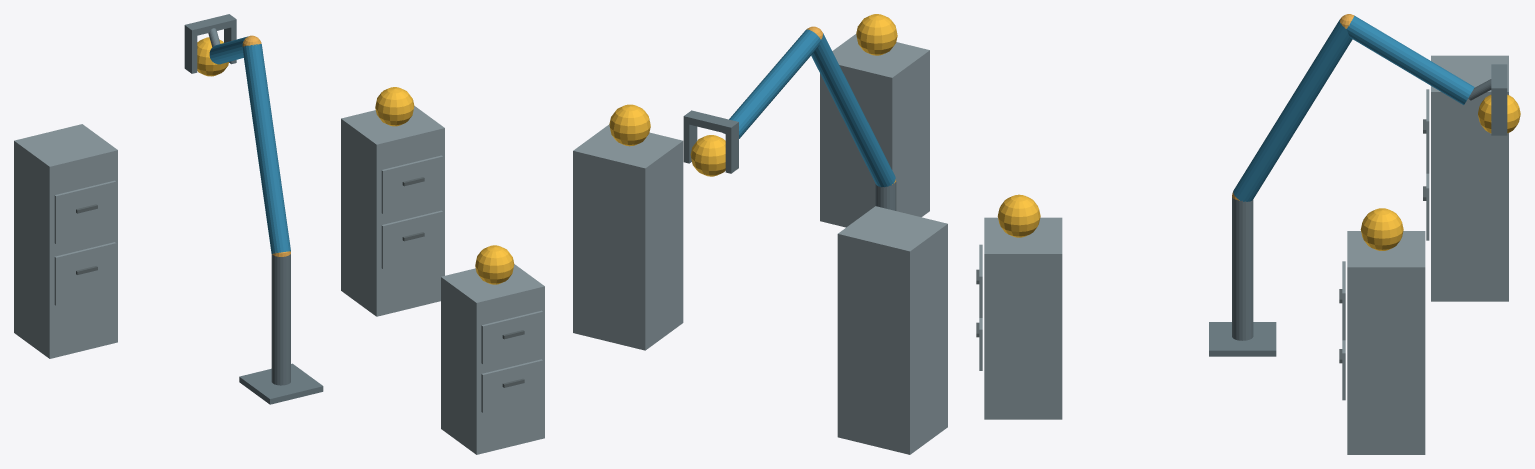
3 views of the same model, side by side, from view 1: azimuth 30°, elevation 25°; view 2: azimuth 150°, elevation 25°; view 3: azimuth 270°, elevation 25° (orthographic). The views are drawn at different scales.
Visible parts, largest first — view 1: cabinet_3 body, cabinet_2 body, cabinet_1 body, moving link 1, cabinet_3 drawer front, cabinet_3 drawer front.001, cabinet_2 drawer front, cabinet_2 drawer front.001, fixed post, cabinet_1 drawer front, cabinet_1 drawer front.001, pedestal (+5 smaller); view 2: cabinet_3 body, cabinet_2 body, cabinet_1 body, moving link 1, moving link 2, released ball_1, released ball_2, ball ball_3, gripper bridge, gripper finger -1, fixed post, gripper finger 1; view 3: cabinet_2 body, cabinet_3 body, cabinet_1 body, moving link 1, fixed post, moving link 2, pedestal, released ball_1, released ball_2, ball ball_3, gripper finger 1, gripper bridge.
Boxes of the visible parts, x1=… form: cabinet_3 body: x1=14, y1=124, x2=117, y2=358; cabinet_2 body: x1=341, y1=106, x2=444, y2=316; cabinet_1 body: x1=441, y1=264, x2=544, y2=454; moving link 1: x1=242, y1=44, x2=290, y2=253; cabinet_3 drawer front: x1=54, y1=242, x2=116, y2=305; cabinet_3 drawer front.001: x1=54, y1=180, x2=116, y2=244; cabinet_2 drawer front: x1=381, y1=210, x2=442, y2=268; cabinet_2 drawer front.001: x1=381, y1=155, x2=442, y2=213; fixed post: x1=271, y1=254, x2=290, y2=385; cabinet_1 drawer front: x1=481, y1=359, x2=542, y2=412; cabinet_1 drawer front.001: x1=481, y1=310, x2=542, y2=364; pedestal: x1=239, y1=363, x2=323, y2=404; cabinet_3 body: x1=837, y1=206, x2=947, y2=454; cabinet_2 body: x1=573, y1=124, x2=683, y2=350; cabinet_1 body: x1=820, y1=34, x2=929, y2=227; moving link 1: x1=811, y1=33, x2=895, y2=187; moving link 2: x1=729, y1=29, x2=820, y2=138; released ball_1: x1=856, y1=14, x2=897, y2=55; released ball_2: x1=609, y1=104, x2=650, y2=146; ball ball_3: x1=690, y1=135, x2=725, y2=176; gripper bridge: x1=683, y1=110, x2=738, y2=134; gripper finger -1: x1=725, y1=129, x2=738, y2=173; fixed post: x1=875, y1=180, x2=896, y2=210; gripper finger 1: x1=683, y1=123, x2=697, y2=163; cabinet_2 body: x1=1347, y1=231, x2=1425, y2=454; cabinet_3 body: x1=1431, y1=55, x2=1508, y2=301; cabinet_1 body: x1=984, y1=217, x2=1062, y2=419; moving link 1: x1=1233, y1=19, x2=1352, y2=201; fixed post: x1=1232, y1=197, x2=1253, y2=340; moving link 2: x1=1347, y1=15, x2=1474, y2=104; pedestal: x1=1209, y1=322, x2=1276, y2=356; released ball_1: x1=997, y1=194, x2=1040, y2=237; released ball_2: x1=1360, y1=208, x2=1403, y2=250; ball ball_3: x1=1478, y1=94, x2=1520, y2=133; gripper finger 1: x1=1491, y1=95, x2=1507, y2=135; gripper bridge: x1=1491, y1=64, x2=1507, y2=95.
Size of the model in its own units: 1.67 by 1.39 by 2.03.
